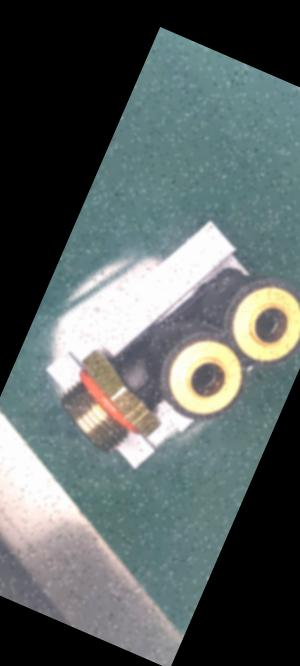craze: (135, 374, 153, 398)
